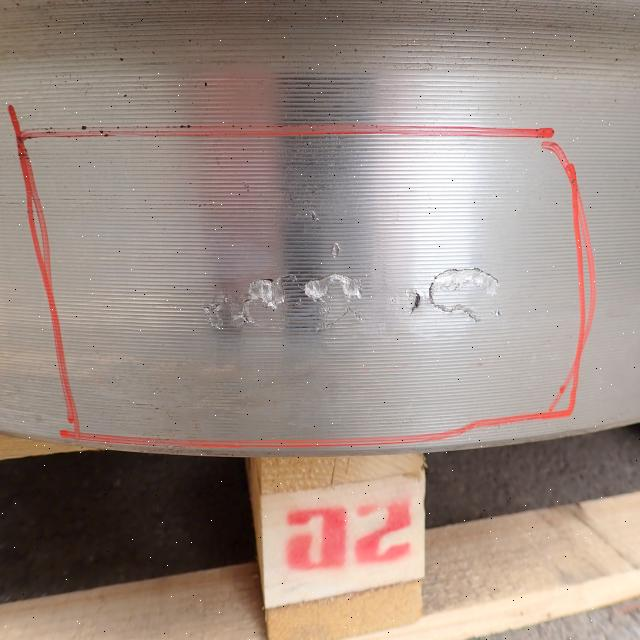boli: (191, 255, 502, 348)
